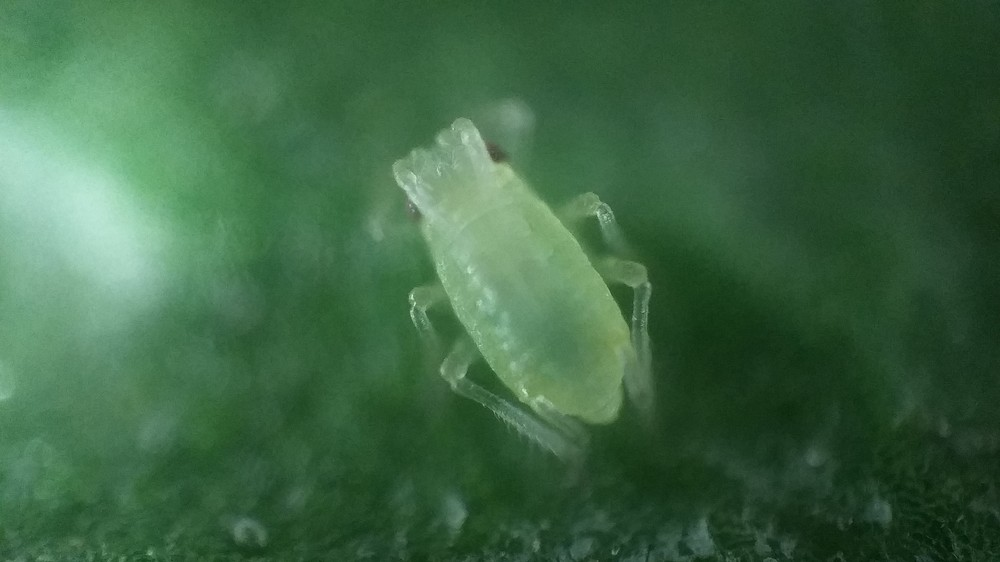Pulgon: (353, 90, 704, 490)
